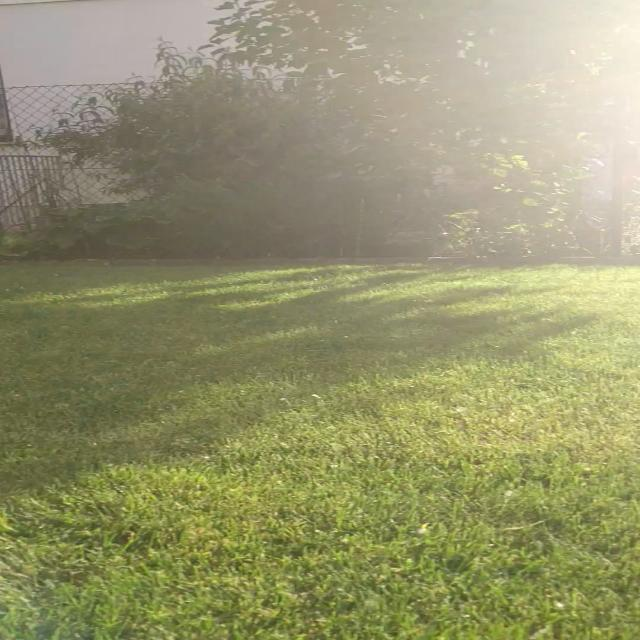lawn: (0, 261, 640, 640)
